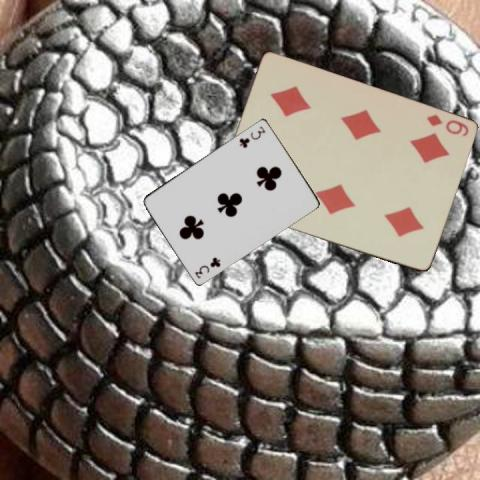3c: (236, 123, 267, 149), (192, 255, 222, 279)
6d: (423, 111, 470, 138)
